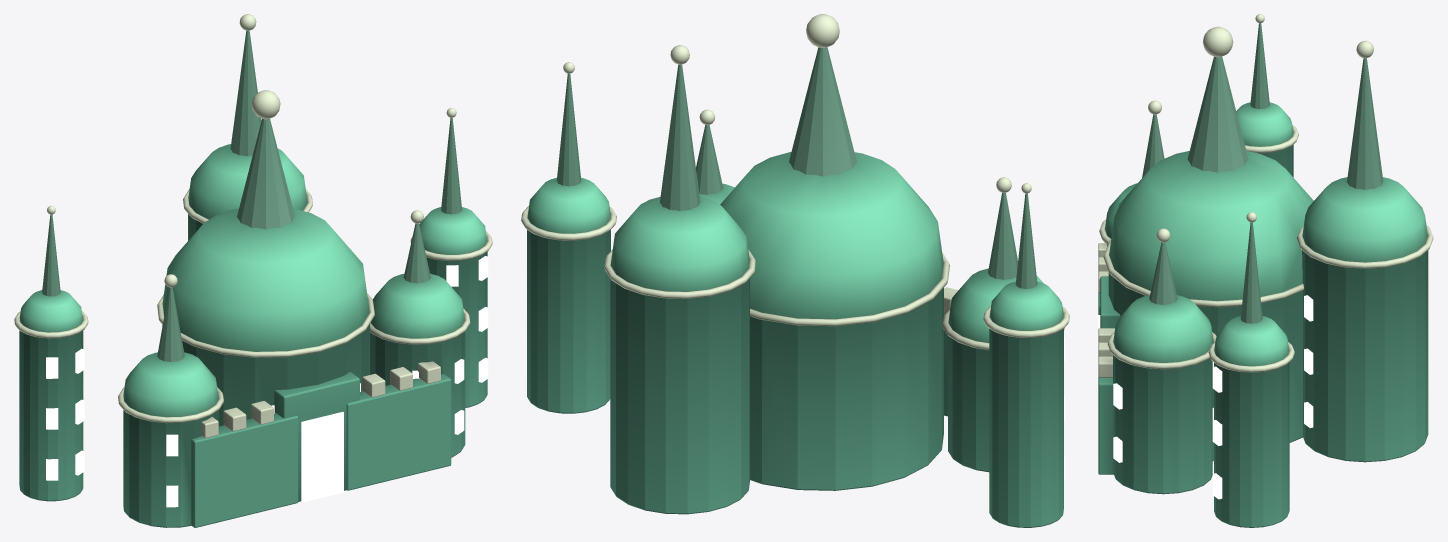
The model's file is emeraldCity.glb.
The picture shows the model from 3 angles, left to right: view 1: azimuth 30°, elevation 25°; view 2: azimuth 150°, elevation 25°; view 3: azimuth 270°, elevation 25°; orthographic projection. The views are drawn at different scales.
Visible parts, largest first — view 1: EmeraldCity; view 2: EmeraldCity; view 3: EmeraldCity.
Boxes of the visible parts, x1,y1,x2,y2 form: EmeraldCity: (14,14,492,527); EmeraldCity: (521,14,1069,527); EmeraldCity: (1098,14,1433,527).
Size of the model in its own units: 13.36 by 10.36 by 7.98.
